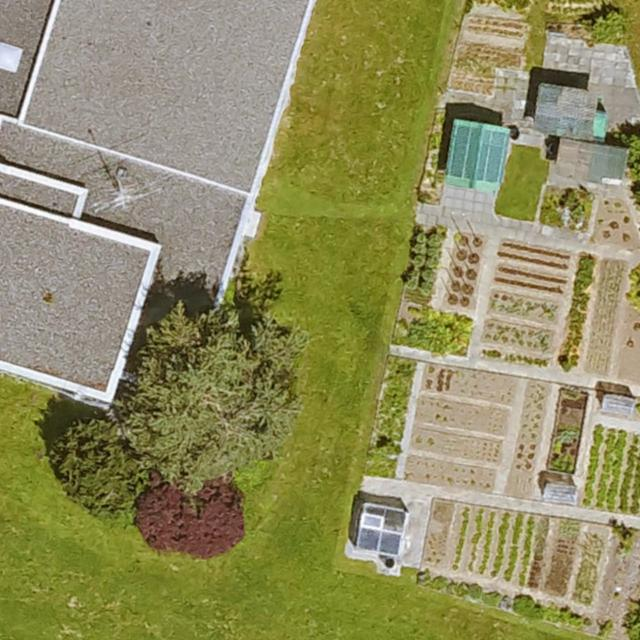tree: (111, 301, 300, 487), (51, 418, 145, 517), (135, 483, 244, 558), (582, 9, 627, 43)
